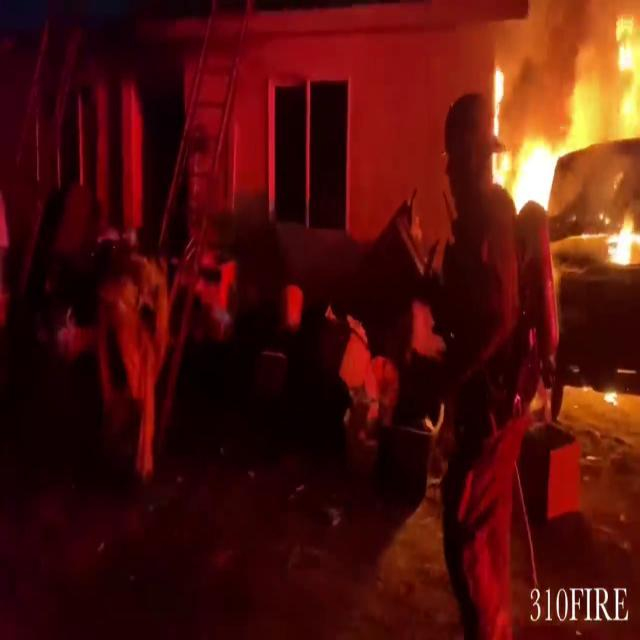Fire: (485, 68, 569, 224), (578, 3, 640, 143), (600, 212, 640, 270)
